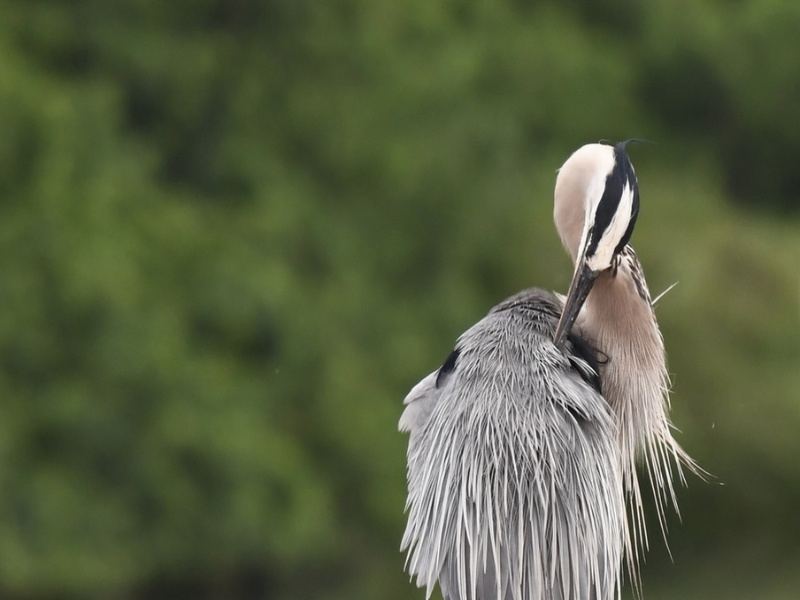heron: (400, 141, 678, 587)
